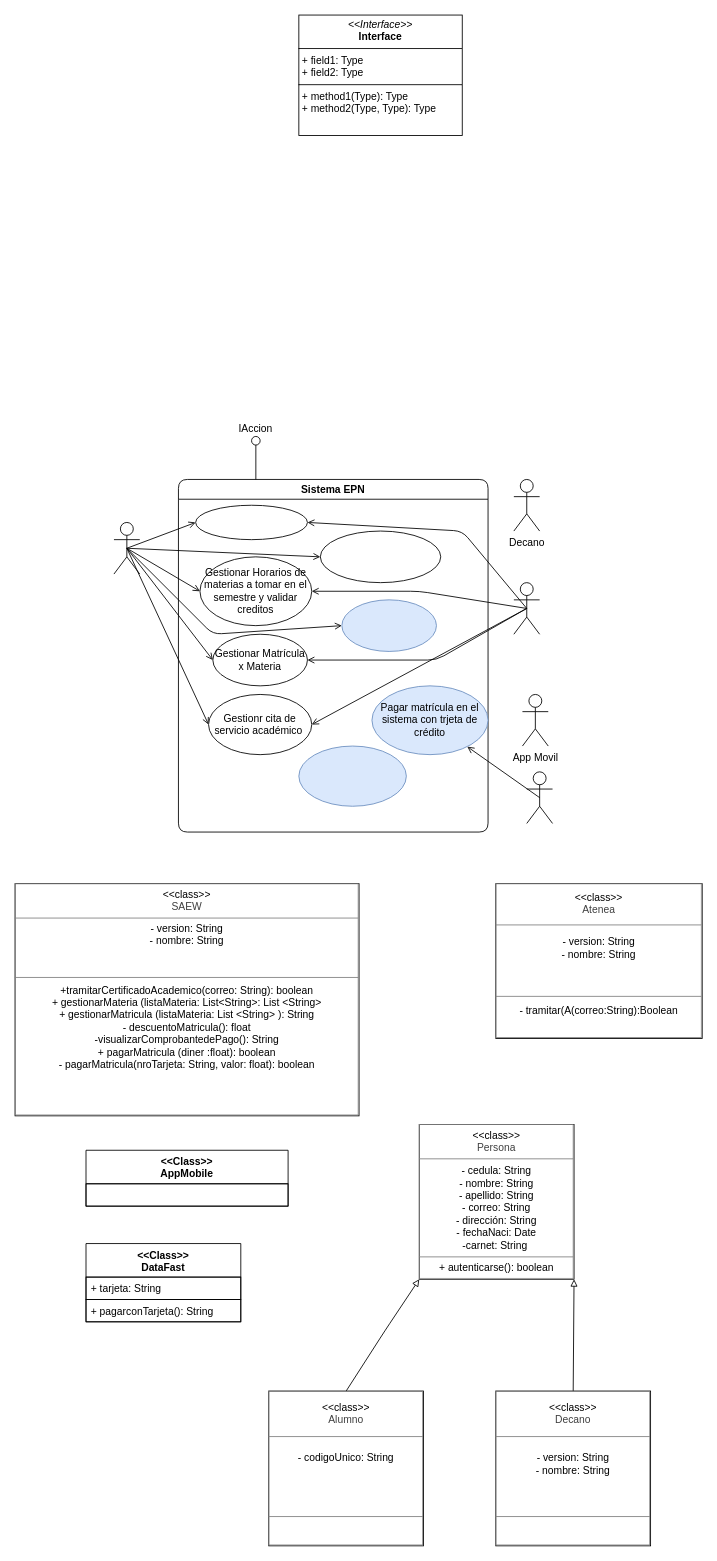
Image size: 717x1561. Some labels were removed from this diagram. Each missing label, with the centre of its shape:
"+ visualizarInformacionAcademica(): void" belongs at (x=186, y=1194).
"Alumno" belongs at (x=126, y=548).
"DATA FAST" belongs at (x=539, y=797).
"Pagar matrícula en tesoreria en efectivo" belongs at (x=352, y=775).
"SAEW" belongs at (x=526, y=608).
"Tramitar Certificado académico" belongs at (x=251, y=522).
"Visualizar comprobrante d la matrícula o pagar la matrícula" belongs at (x=388, y=625).
"Visualizar información académica del alumno" belongs at (x=380, y=556).
